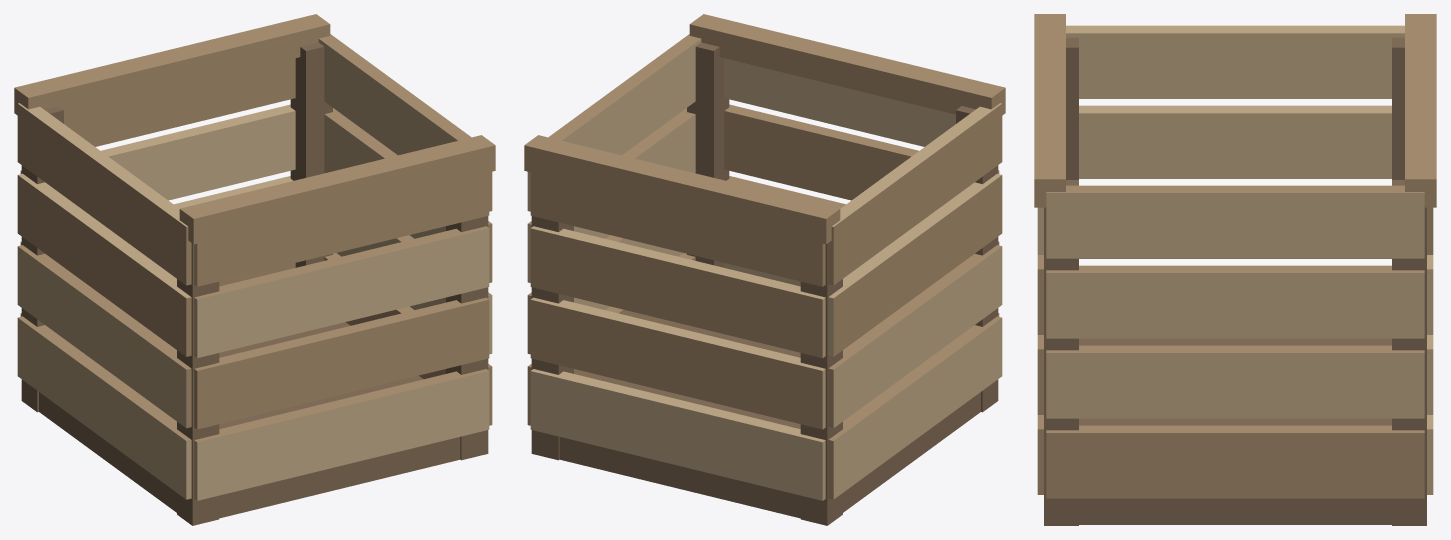
File: crate.glb
The picture shows the model from 3 angles, left to right: view 1: azimuth 30°, elevation 25°; view 2: azimuth 150°, elevation 25°; view 3: azimuth 270°, elevation 25°; orthographic projection. The views are drawn at different scales.
Parts seen in each view (by area): view 1: crate; view 2: crate; view 3: crate.
Boxes of the visible parts, x1,y1,x2,y2 form: crate: (14,14,495,525); crate: (524,14,1005,525); crate: (1034,14,1436,525).
Size of the model in its own units: 0.628 by 0.61 by 0.638.
